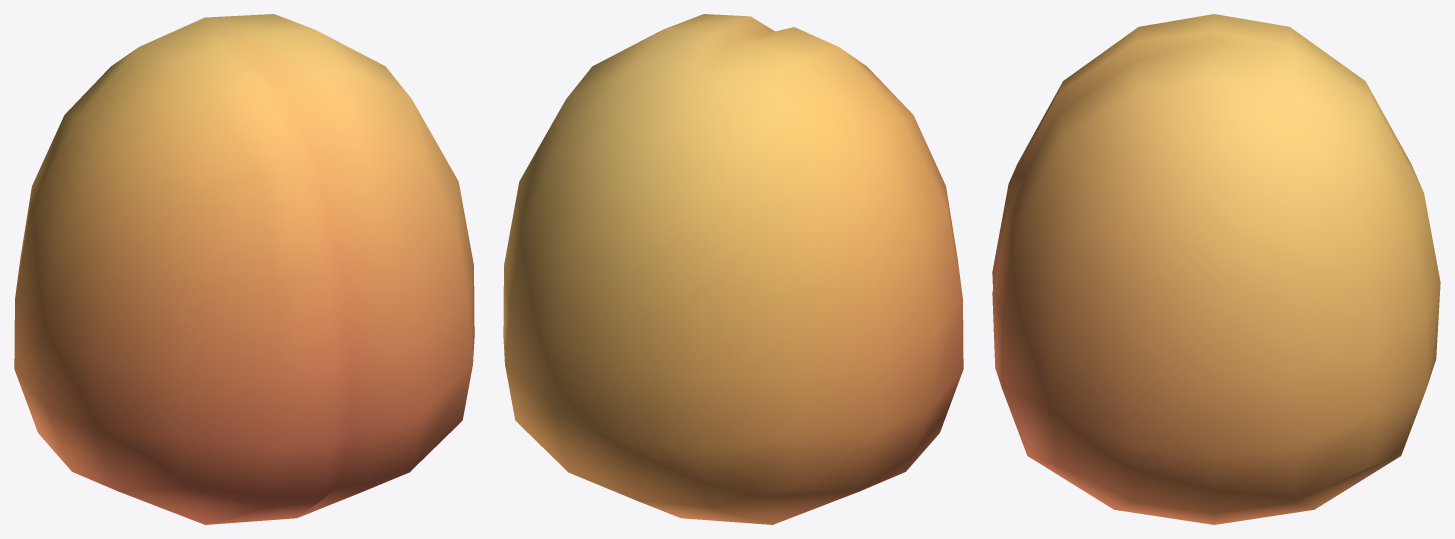
File: apricot_001.fbx
3 renders of one model, left to right at view 1: azimuth 30°, elevation 25°; view 2: azimuth 150°, elevation 25°; view 3: azimuth 270°, elevation 25°, orthographic.
Parts seen in each view (by area): view 1: apricot_001; view 2: apricot_001; view 3: apricot_001.
Part boxes in pixels (x1,y1,x2,y2): apricot_001: (14, 14, 474, 524); apricot_001: (503, 14, 963, 524); apricot_001: (992, 14, 1440, 524).
Size of the model in its own units: 5.22 by 5.03 by 5.56.
